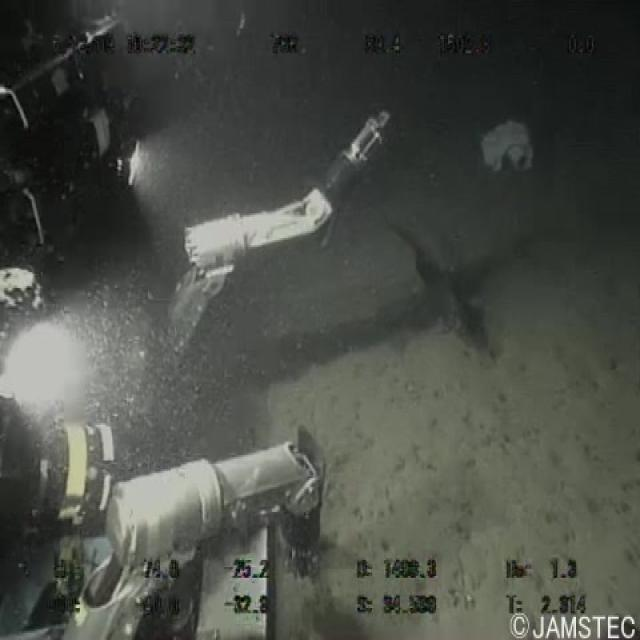plastic: (473, 114, 538, 174)
